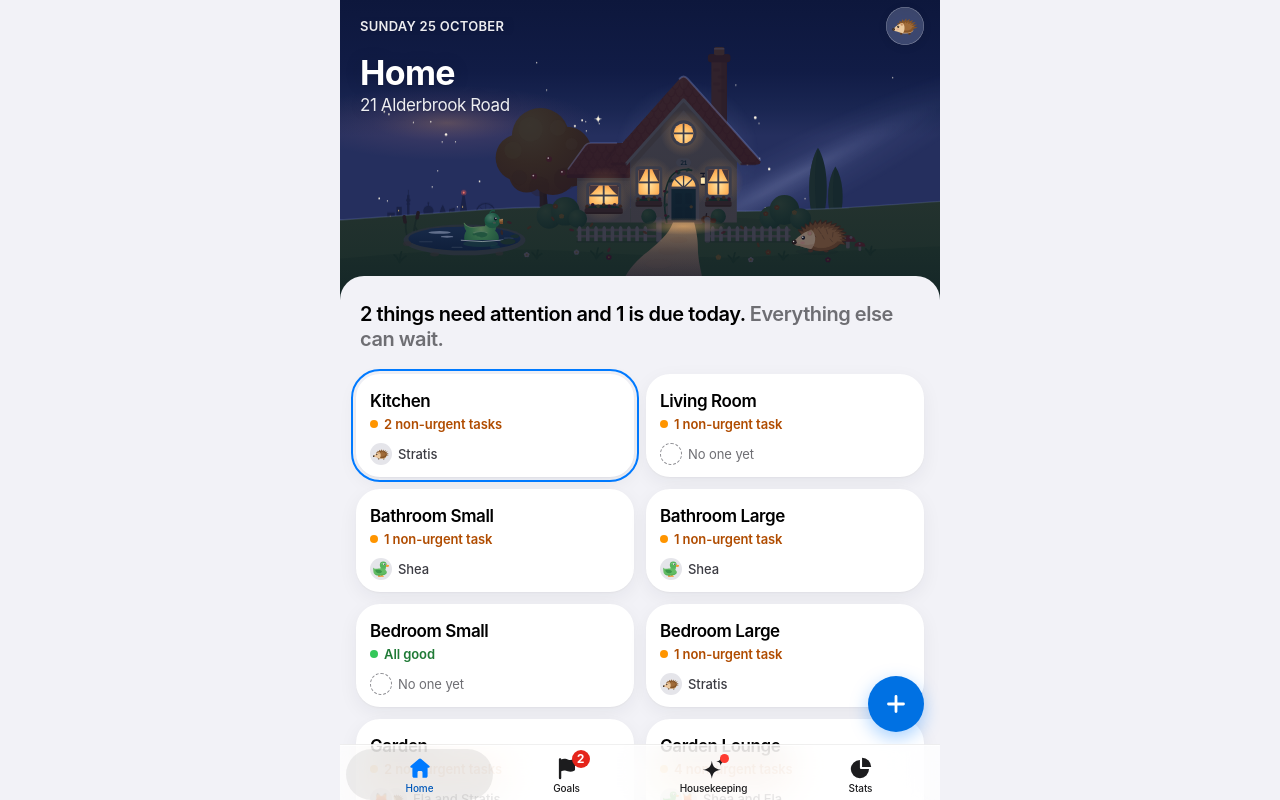
an area’s sheet › a row opens its item over the sheet; Escape closes only the item, and focus goes back to the row
Later steps or results of the test are not shown.
Expected: the heading "Home" is shown, [360,52,455,93]
Click the button "Kitchen 2 non-urgent tasks Stratis".
click(495, 426)  # box [356,374,634,477]
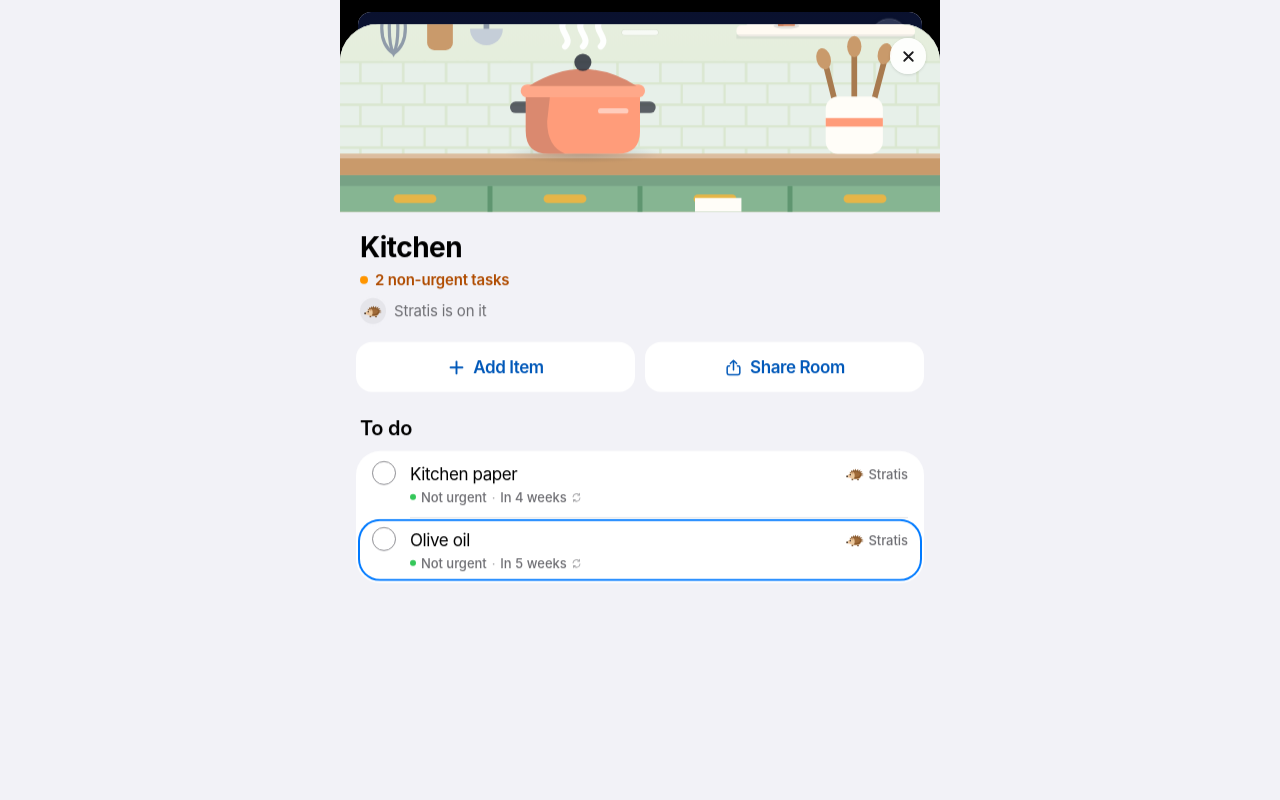
Click the 2nd button "Stratis".
click(888, 540)  # box [410,517,908,583]
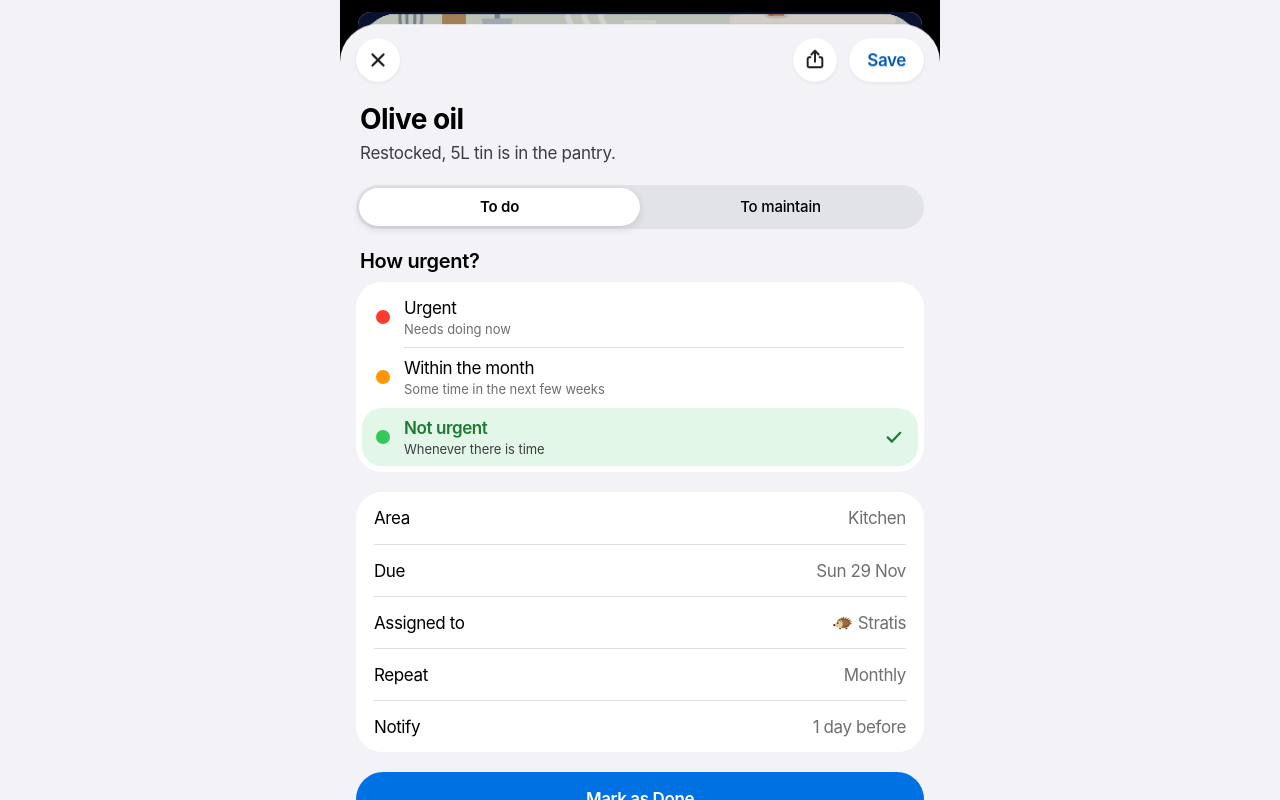
Expected: the dialog "Kitchen" has attribute data-behind, [361,14,919,736]
Press Escape
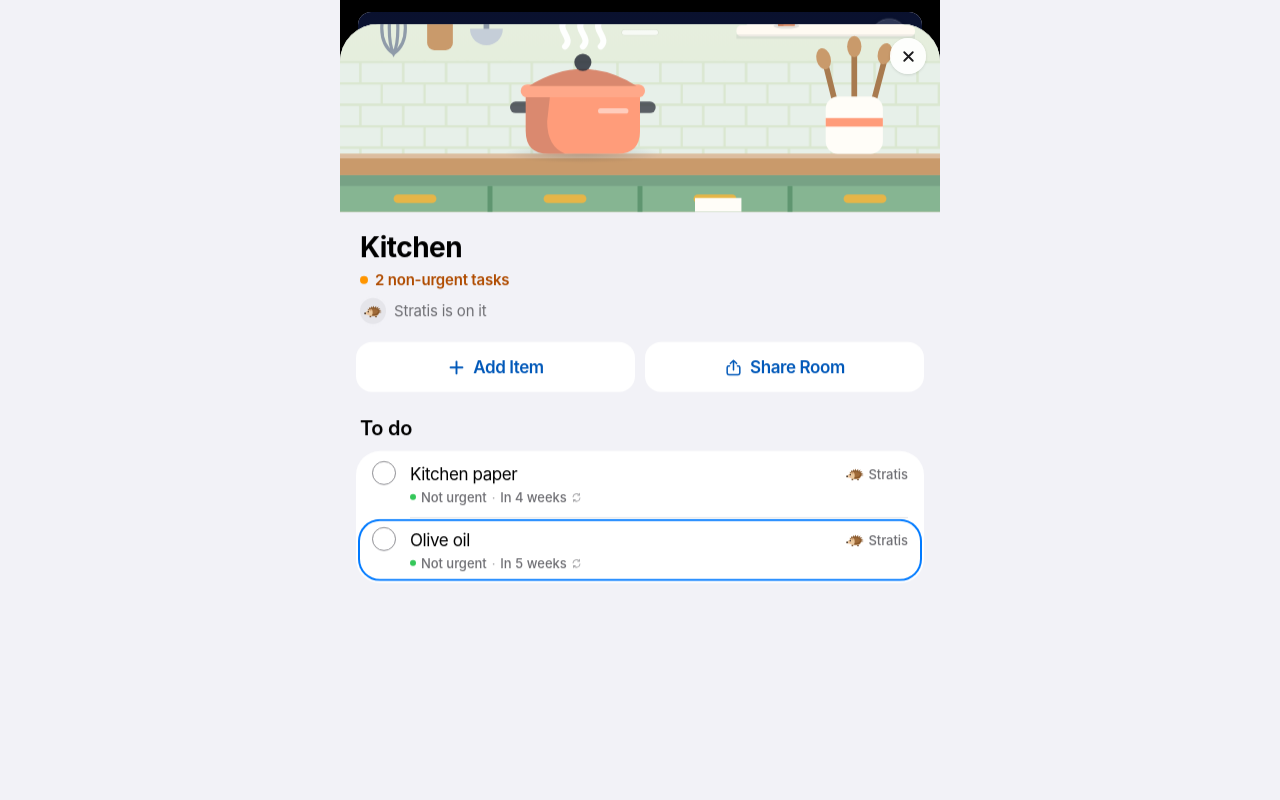
Expected: the dialog "Kitchen" does not have attribute data-behind, [340,24,940,799]
